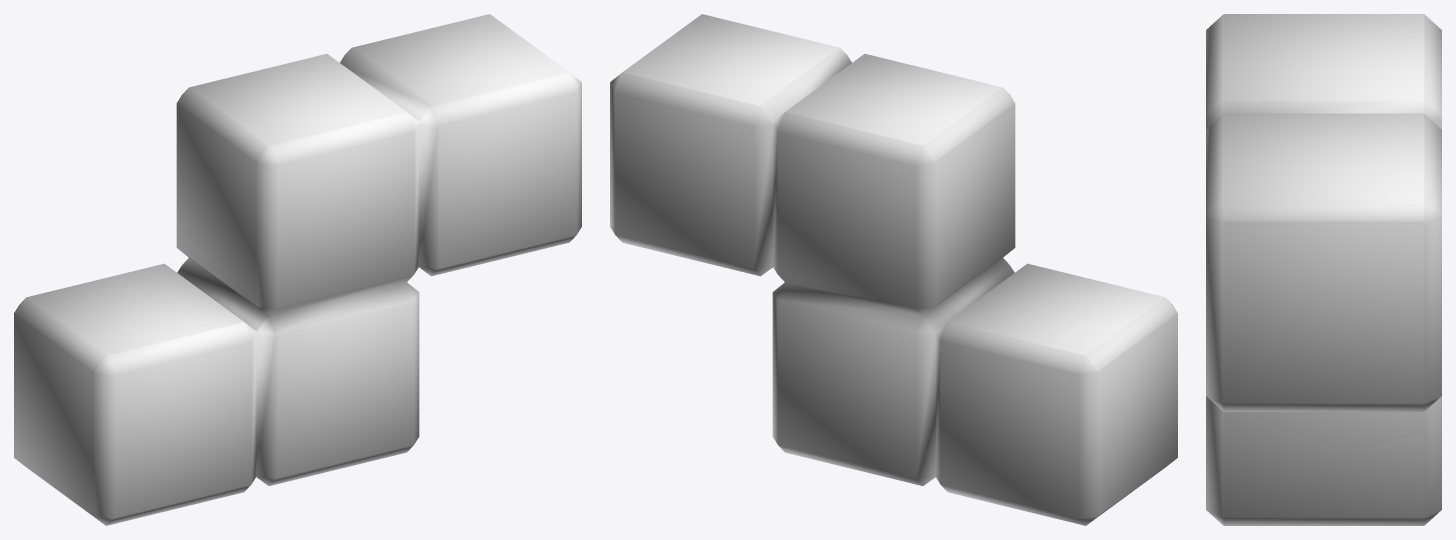
3 views of the same model, side by side, from view 1: azimuth 30°, elevation 25°; view 2: azimuth 150°, elevation 25°; view 3: azimuth 270°, elevation 25° (orthographic). The views are drawn at different scales.
Visible parts, largest first — view 1: S-shape; view 2: S-shape; view 3: S-shape.
Part boxes in pixels (left/top/right/bottom): S-shape: left=14, top=14, right=581, bottom=525; S-shape: left=610, top=14, right=1177, bottom=525; S-shape: left=1206, top=14, right=1441, bottom=525.
Bounding box in the file's own units: 3 × 2 × 1.
